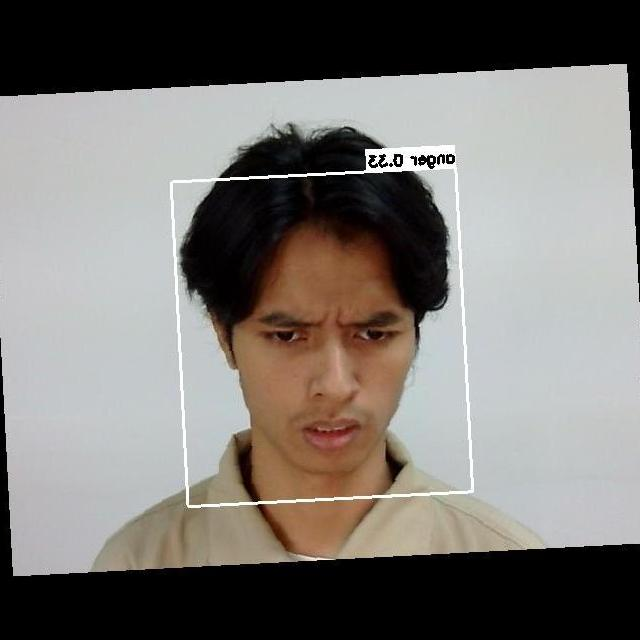Disgust: (218, 277, 434, 475)
